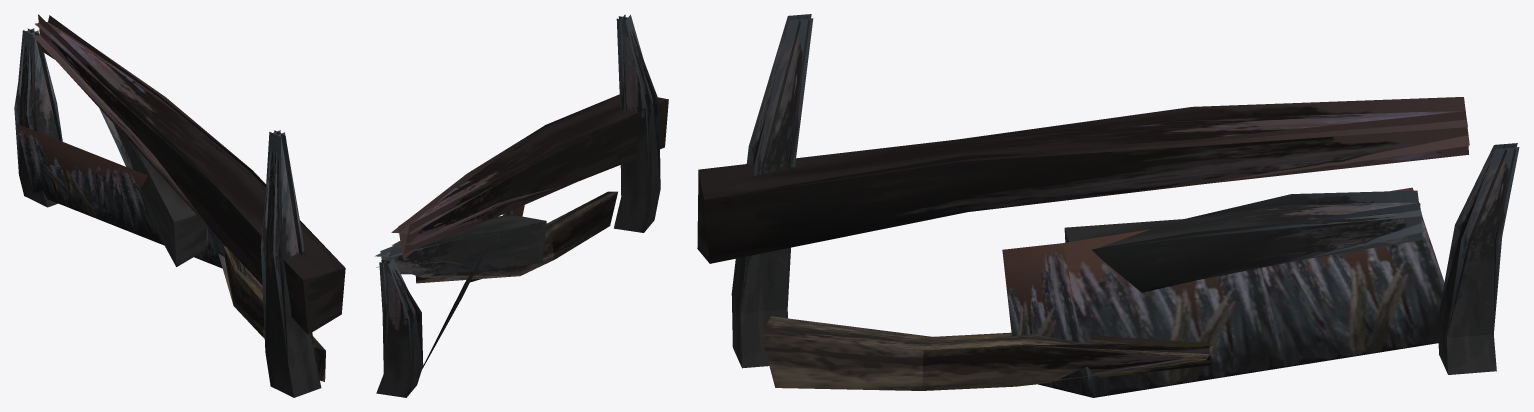
File: burned_woods.fbx
3 views of the same model, side by side, from view 1: azimuth 30°, elevation 25°; view 2: azimuth 150°, elevation 25°; view 3: azimuth 270°, elevation 25° (orthographic). The views are drawn at different scales.
Parts seen in each view (by area): view 1: polySurface43, pCube10, pPlane4, polySurface27, pCube11, pCube3; view 2: polySurface43, pCube10, polySurface27, pCube11, pCube3, pPlane4; view 3: polySurface43, pPlane4, pCube3, polySurface27, pCube10, pCube11.
Boxes of the visible parts, <box> form: polySurface43: <box>32,14,345,334</box>; pCube10: <box>260,130,321,397</box>; pPlane4: <box>16,123,245,275</box>; polySurface27: <box>99,108,207,266</box>; pCube11: <box>14,28,62,207</box>; pCube3: <box>218,245,325,381</box>; polySurface43: <box>391,94,668,259</box>; pCube10: <box>613,14,660,232</box>; polySurface27: <box>375,214,546,274</box>; pCube11: <box>376,258,423,397</box>; pCube3: <box>412,191,617,283</box>; pPlane4: <box>418,205,524,376</box>; polySurface43: <box>697,97,1469,263</box>; pPlane4: <box>1002,187,1444,397</box>; pCube3: <box>761,316,1214,390</box>; polySurface27: <box>1064,190,1423,292</box>; pCube10: <box>731,14,813,368</box>; pCube11: <box>1438,143,1519,374</box>.
Size of the model in its own units: 296 by 532 by 1147.
Materials: 1 (1 with a texture image).
